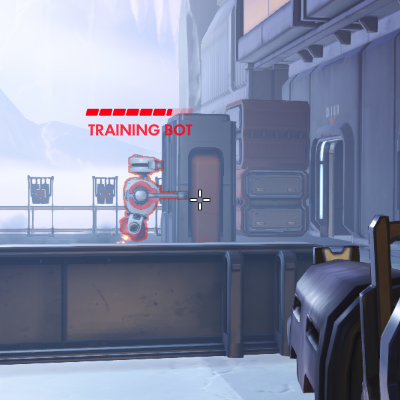hpbar: (85, 108, 193, 117)
